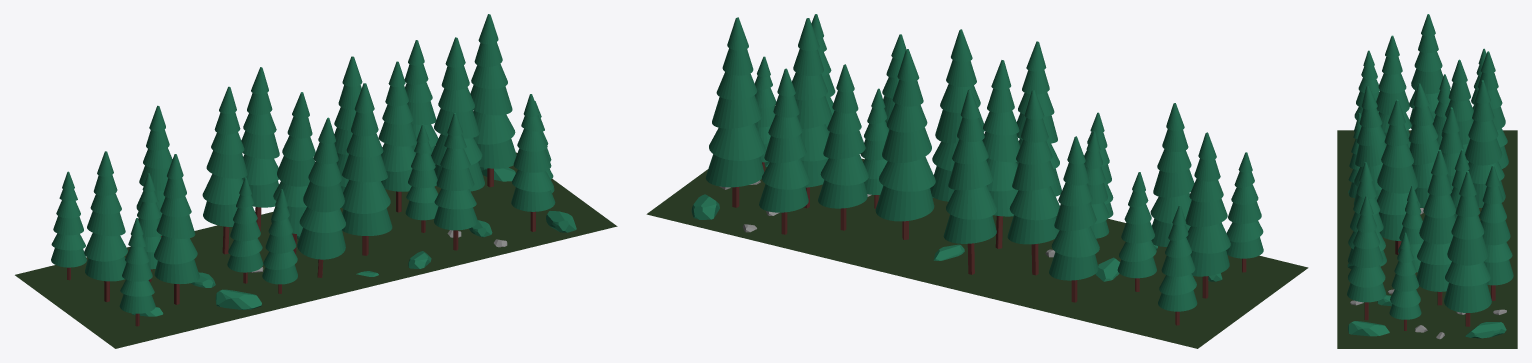
Rendered from Tile1.fbx.
3 renders of one model, left to right at view 1: azimuth 30°, elevation 25°; view 2: azimuth 150°, elevation 25°; view 3: azimuth 270°, elevation 25°, orthographic. The views are drawn at different scales.
Visible parts, largest first — view 1: Tile1; view 2: Tile1; view 3: Tile1.
Part boxes in pixels (left/top/right/bottom): Tile1: left=15, top=14, right=617, bottom=348; Tile1: left=646, top=14, right=1308, bottom=348; Tile1: left=1337, top=14, right=1517, bottom=348.
Size of the model in its own units: 12050 by 4276 by 4203.
